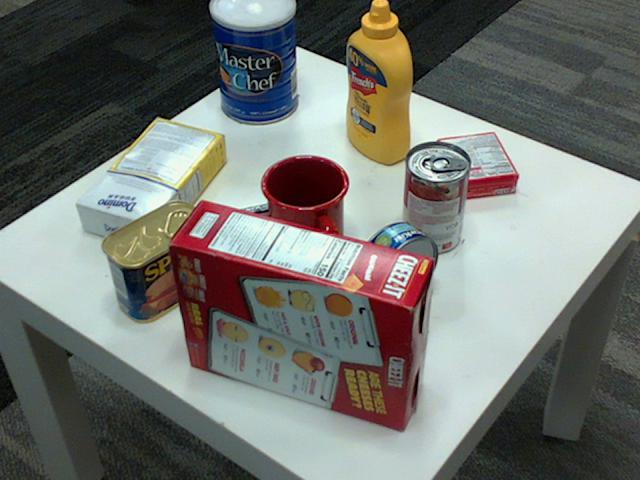cracker_box: (167, 199, 431, 428)
gelatin_box: (437, 132, 520, 198)
large_marker: (198, 196, 305, 237)
master_chef_can: (208, 0, 296, 123)
mug: (261, 151, 350, 259)
mustard_bottle: (346, 0, 411, 164)
potted_meat_can: (102, 200, 209, 322)
sugar_box: (77, 115, 227, 247)
tomato_soup_can: (401, 141, 470, 253)
tuna_fish_can: (354, 221, 438, 308)
